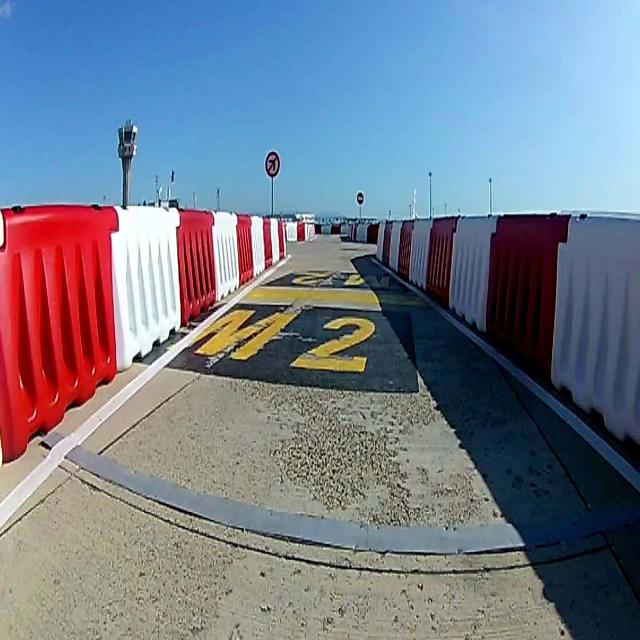soladonulmez: (265, 151, 281, 177)
